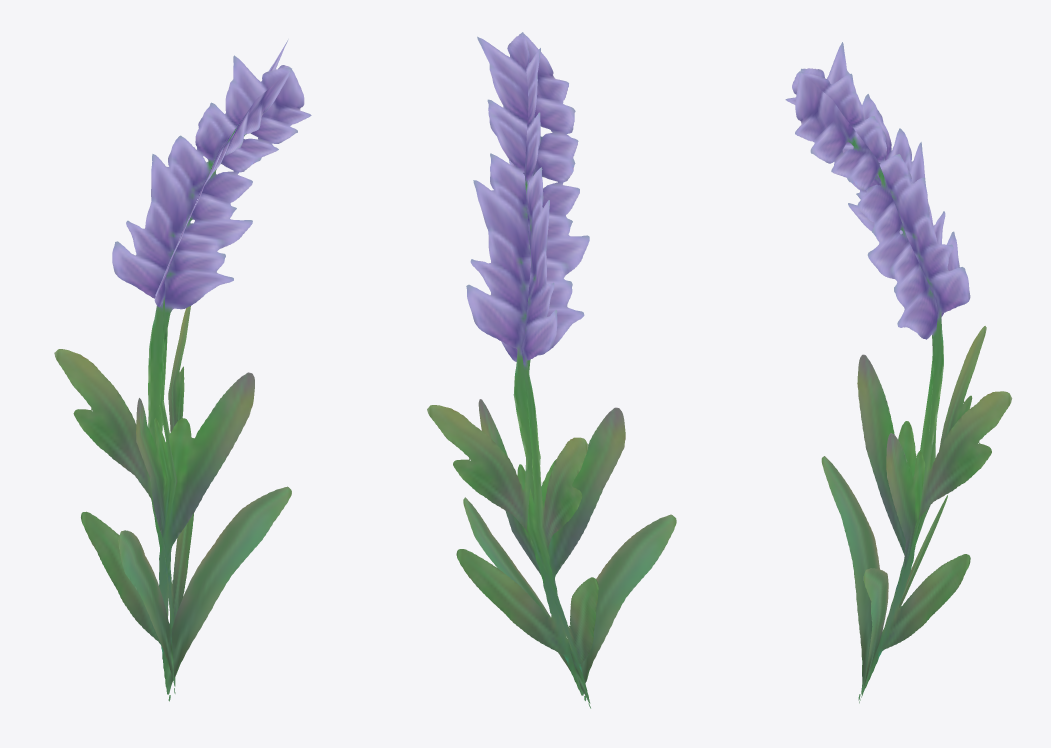
File: SM_Ground_Lavender_C.fbx
3 views of the same model, side by side, from view 1: azimuth 30°, elevation 25°; view 2: azimuth 150°, elevation 25°; view 3: azimuth 270°, elevation 25° (orthographic). The views are drawn at different scales.
Visible parts, largest first — view 1: SM_Ground_Lavender_C_LOD0; view 2: SM_Ground_Lavender_C_LOD0; view 3: SM_Ground_Lavender_C_LOD0.
Part boxes in pixels (x1,y1,x2,y2): SM_Ground_Lavender_C_LOD0: (54,39,311,701); SM_Ground_Lavender_C_LOD0: (427,32,676,708); SM_Ground_Lavender_C_LOD0: (785,42,1012,703).
Size of the model in its own units: 24.95 by 25.46 by 68.34.
1 material, 1 textured.
